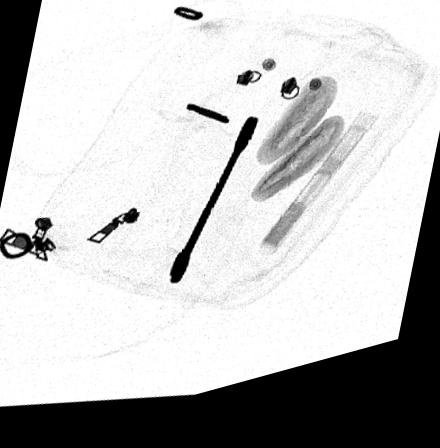Wrench: (167, 126, 259, 293)
